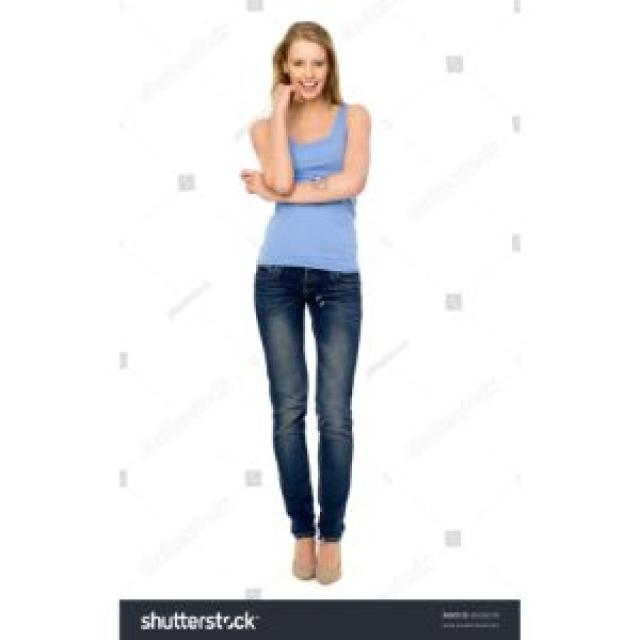adult: (216, 6, 401, 602)
